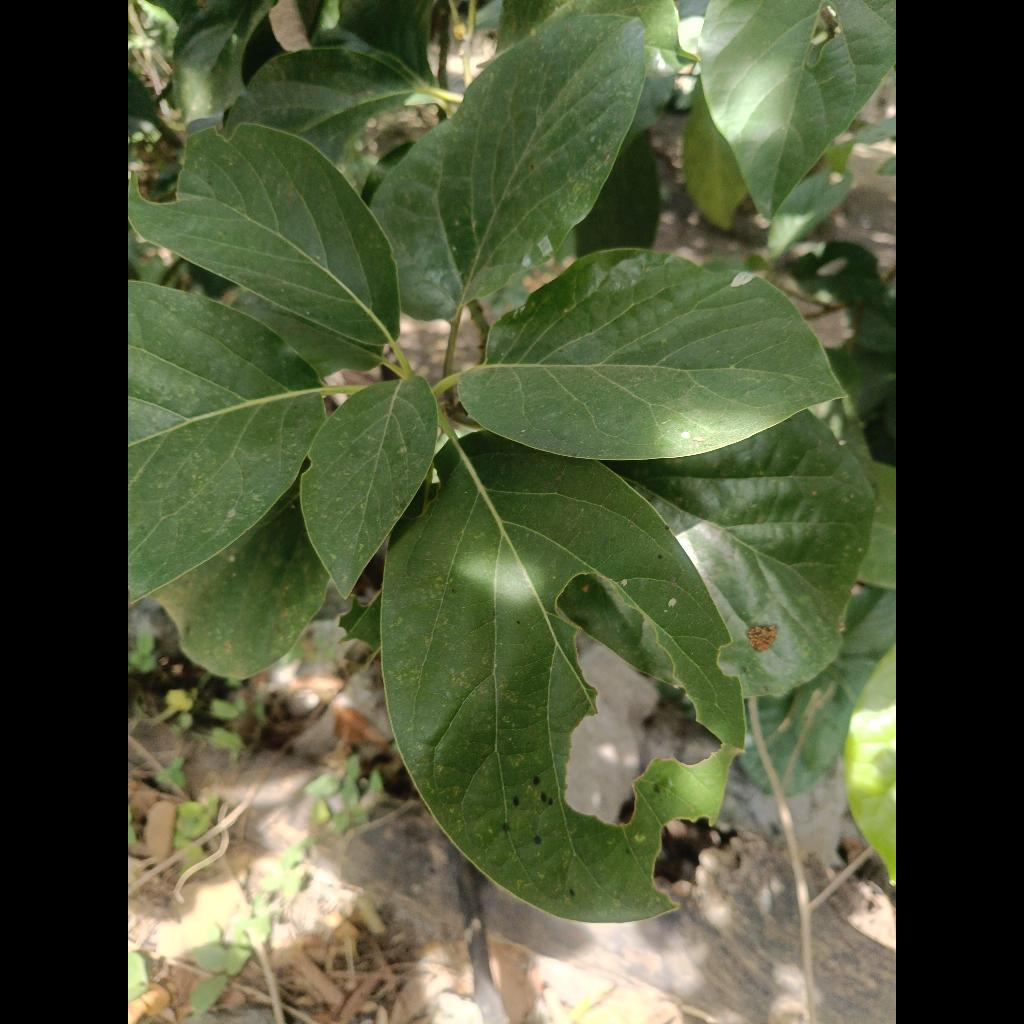plaga: (380, 433, 744, 922)
